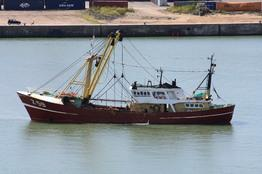otherboat: (10, 23, 241, 127)
